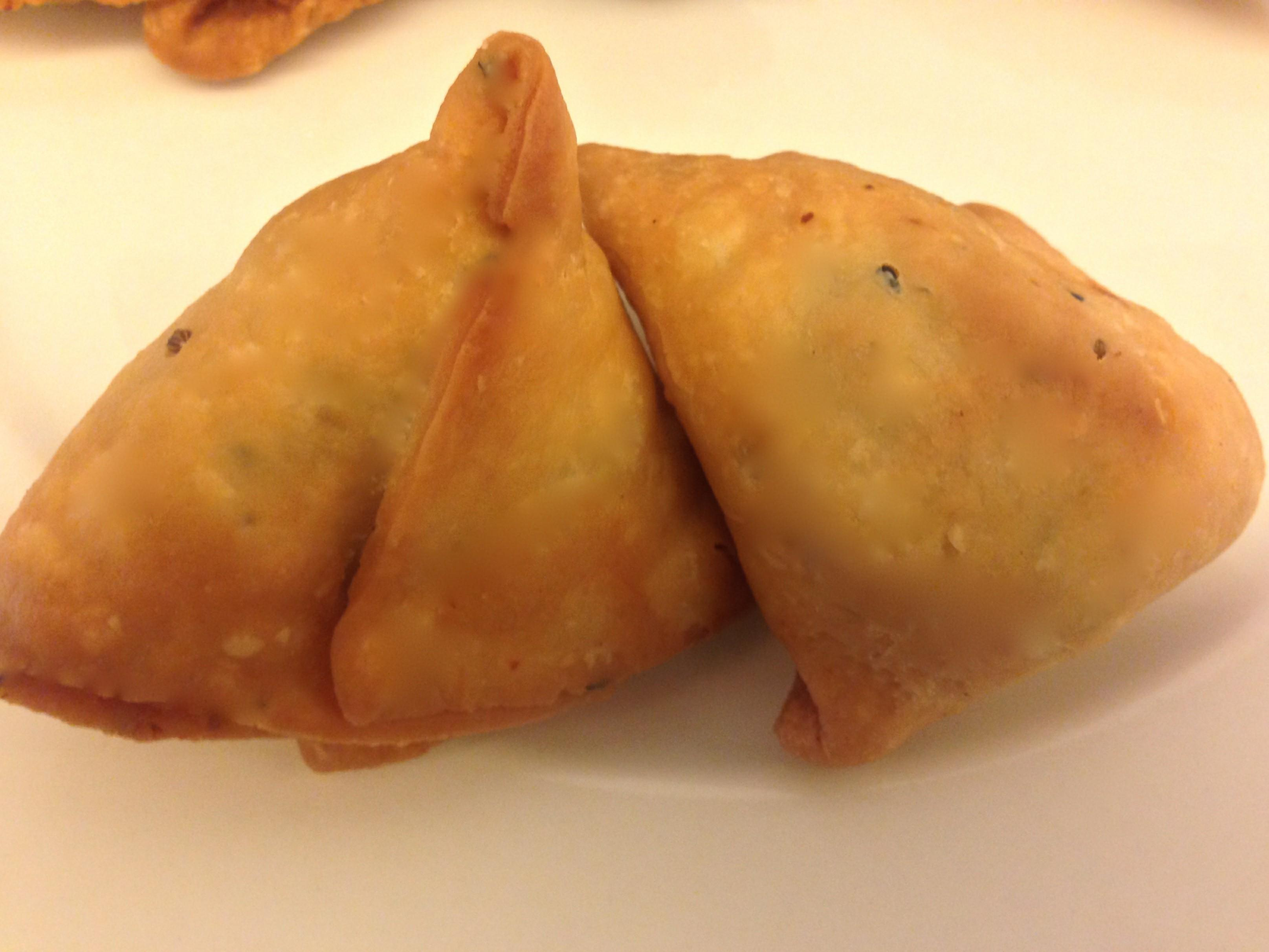Samosa: (0, 27, 747, 772), (578, 140, 1259, 762)
